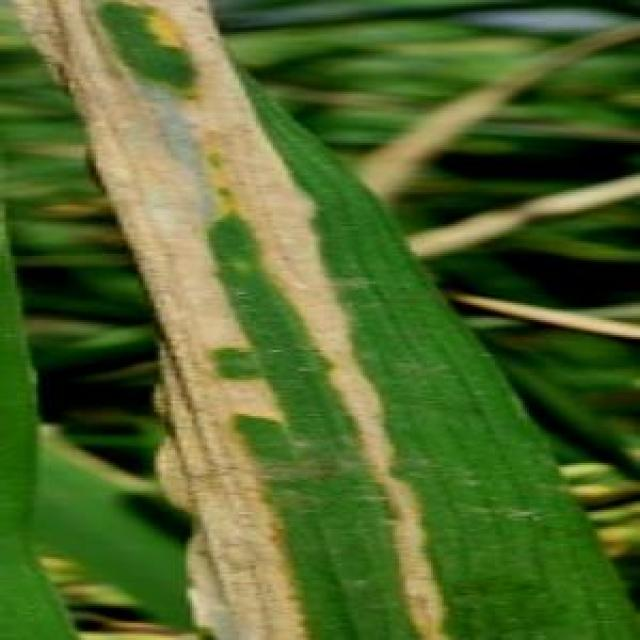Bacterial_Leaf_Blight: (107, 2, 536, 638)
